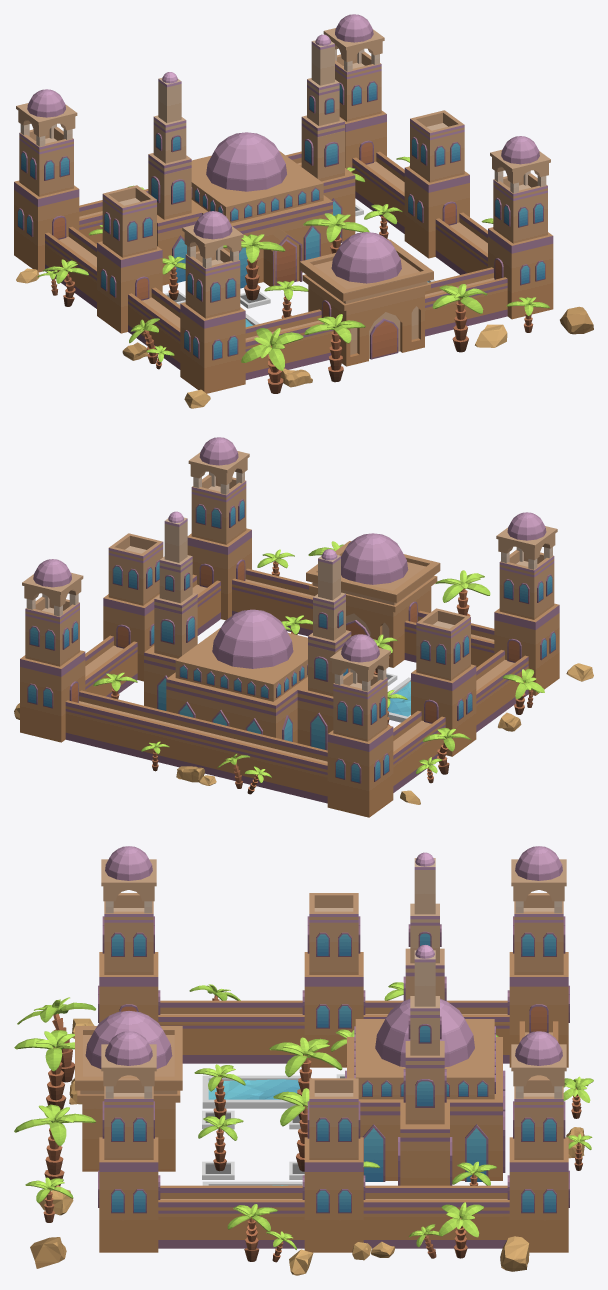
The model's file is field_13.glb.
3 renders of one model, top to bottom at view 1: azimuth 30°, elevation 25°; view 2: azimuth 150°, elevation 25°; view 3: azimuth 270°, elevation 25°, orthographic. The views are drawn at different scales.
Visible parts, largest first — view 1: wall castle_28, arab castle_15, palm tree tilted 4_18, palm tree large 4_32, palm tree large 4 (1)_33, palm tree large 4 (9)_35, palm tree large 4 (3)_16, palm tree bent 4 (1)_29, desert stone small 8_4, desert stone small 7_42, palm tree tilted 4 (1)_1, palm tree large 4 (6)_26 (+2 smaller); view 2: wall castle_28, arab castle_15, palm tree large 4 (1)_33, pool_25, palm tree tilted 4 (1)_1, palm tree bent 4 (1)_29; view 3: wall castle_28, arab castle_15, pool_25, palm tree large 4_32, palm tree large 4 (1)_33, palm tree large 4 (9)_35, palm tree tilted 4 (3)_23, palm tree tilted 4_18, palm tree large 4 (3)_16, palm tree bent 4_17, palm tree large 4 (2)_12, palm tree large 4 (8)_11 (+5 smaller).
Part boxes in pixels (x1,y1,x2,y2): wall castle_28: [14, 14, 553, 393]; arab castle_15: [148, 34, 355, 288]; palm tree tilted 4_18: [241, 328, 303, 393]; palm tree large 4_32: [432, 284, 487, 352]; palm tree large 4 (1)_33: [304, 314, 365, 382]; palm tree large 4 (9)_35: [223, 234, 285, 300]; palm tree large 4 (3)_16: [303, 213, 369, 253]; palm tree bent 4 (1)_29: [43, 259, 88, 306]; desert stone small 8_4: [560, 306, 593, 334]; desert stone small 7_42: [475, 324, 507, 347]; palm tree tilted 4 (1)_1: [129, 318, 159, 363]; palm tree large 4 (6)_26: [162, 255, 185, 300]; wall castle_28: [20, 437, 559, 817]; arab castle_15: [144, 511, 351, 750]; palm tree large 4 (1)_33: [435, 570, 490, 616]; pool_25: [387, 677, 410, 722]; palm tree tilted 4 (1)_1: [502, 668, 544, 714]; palm tree bent 4 (1)_29: [422, 728, 470, 774]; wall castle_28: [75, 846, 569, 1252]; arab castle_15: [345, 852, 505, 1185]; pool_25: [202, 1075, 300, 1108]; palm tree large 4_32: [14, 1104, 95, 1187]; palm tree large 4 (1)_33: [14, 1030, 74, 1110]; palm tree large 4 (9)_35: [269, 1037, 342, 1119]; palm tree tilted 4 (3)_23: [439, 1202, 483, 1258]; palm tree tilted 4_18: [17, 997, 95, 1082]; palm tree large 4 (3)_16: [273, 1088, 309, 1171]; palm tree bent 4_17: [227, 1204, 277, 1261]; palm tree large 4 (2)_12: [198, 1115, 243, 1171]; palm tree large 4 (8)_11: [194, 1064, 245, 1119].
Size of the model in its own units: 20.82 by 10.29 by 20.71.
1 material, 1 textured.
